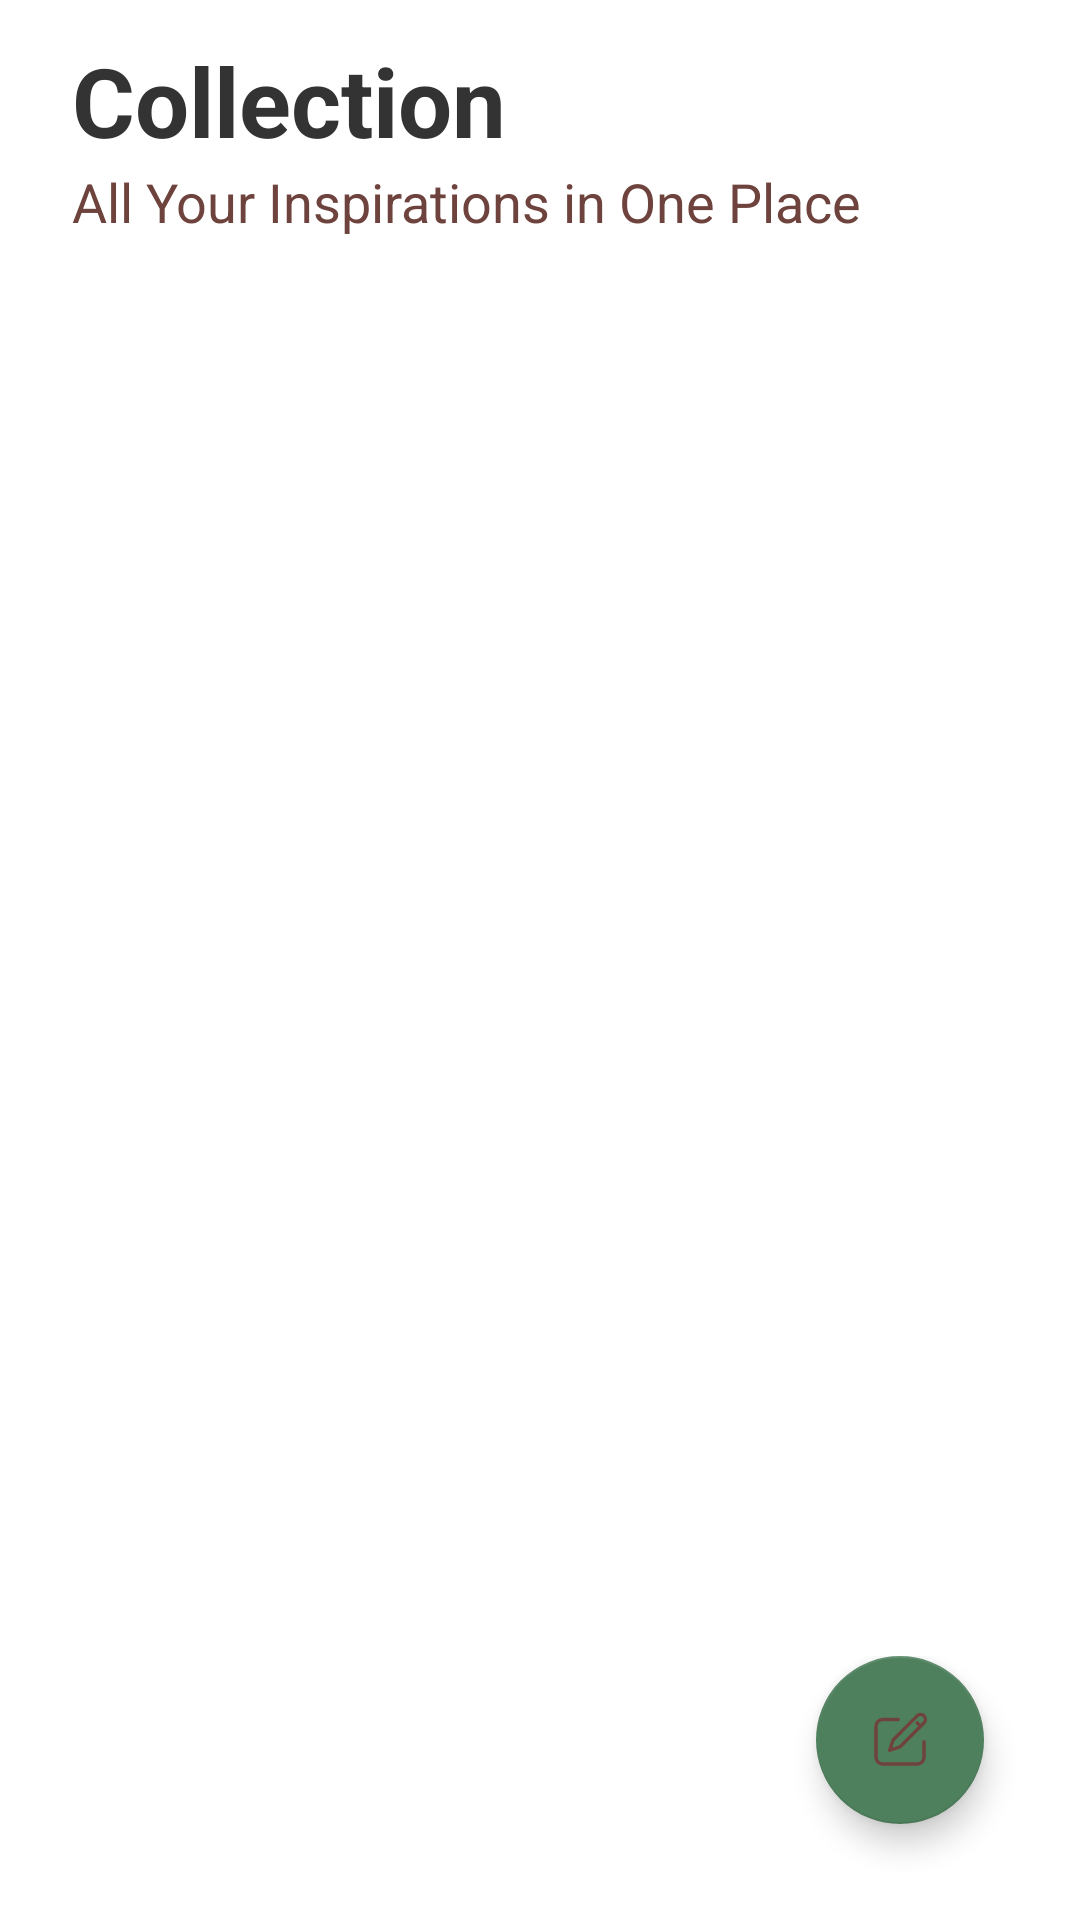

Icons on this 1080w x 1920h Android screen, each with its box as rect(x1, y1, x2, y2):
create recipe: rect(816, 1656, 984, 1824)
